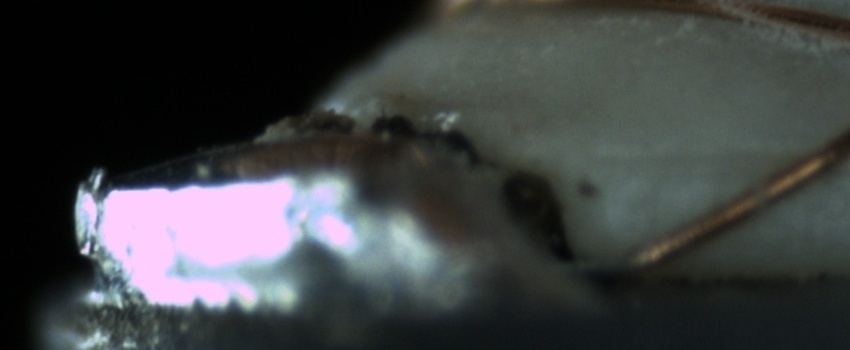DL: (587, 119, 834, 194)
